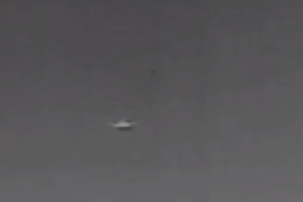Target: (116, 122, 132, 126)
